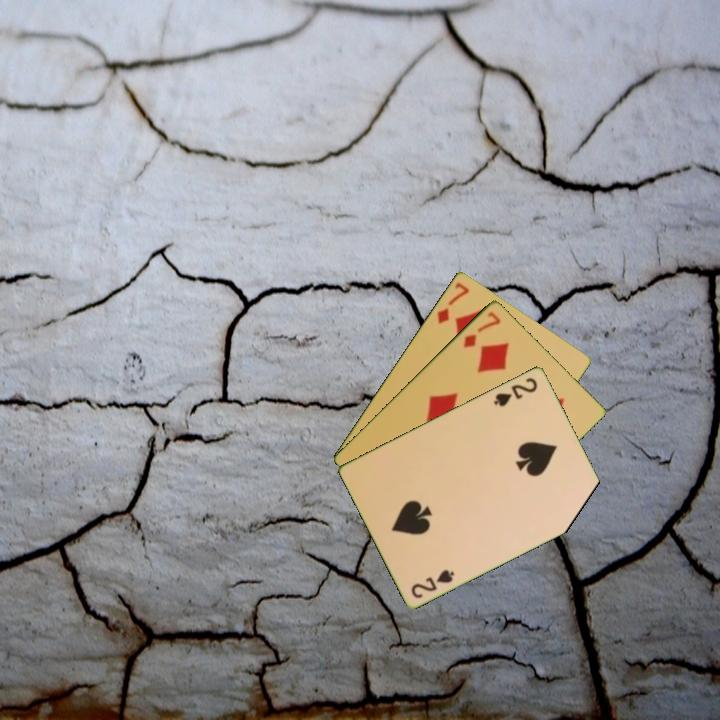2s: (490, 373, 540, 409), (408, 565, 458, 601)
7d: (460, 307, 504, 350), (433, 278, 472, 326)
